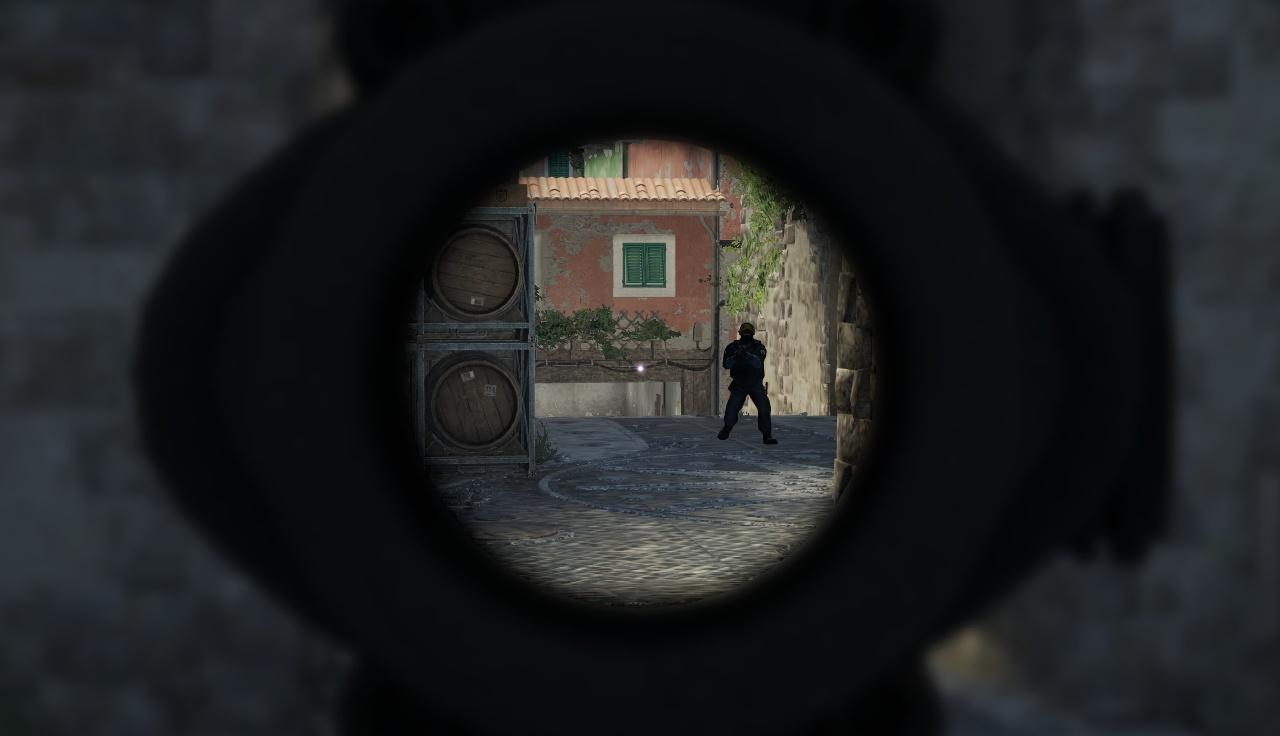ct: (723, 321, 766, 449), (723, 323, 766, 450)
cthead: (737, 321, 754, 341)
